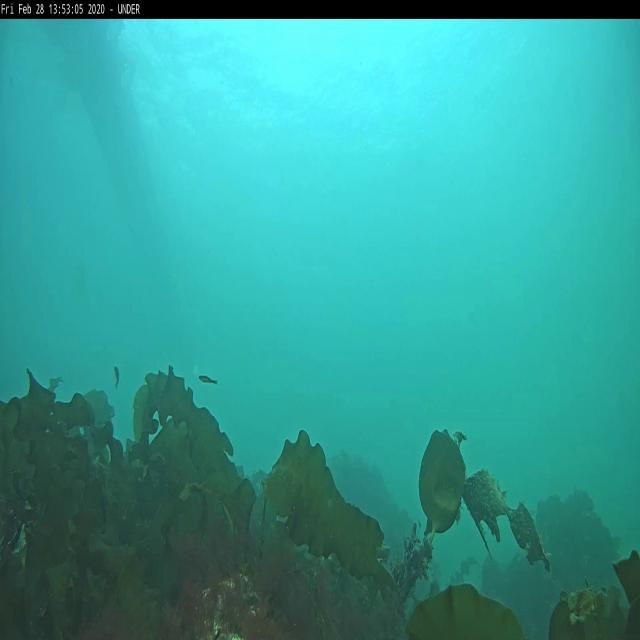fish: (197, 373, 217, 385), (114, 366, 120, 388)
